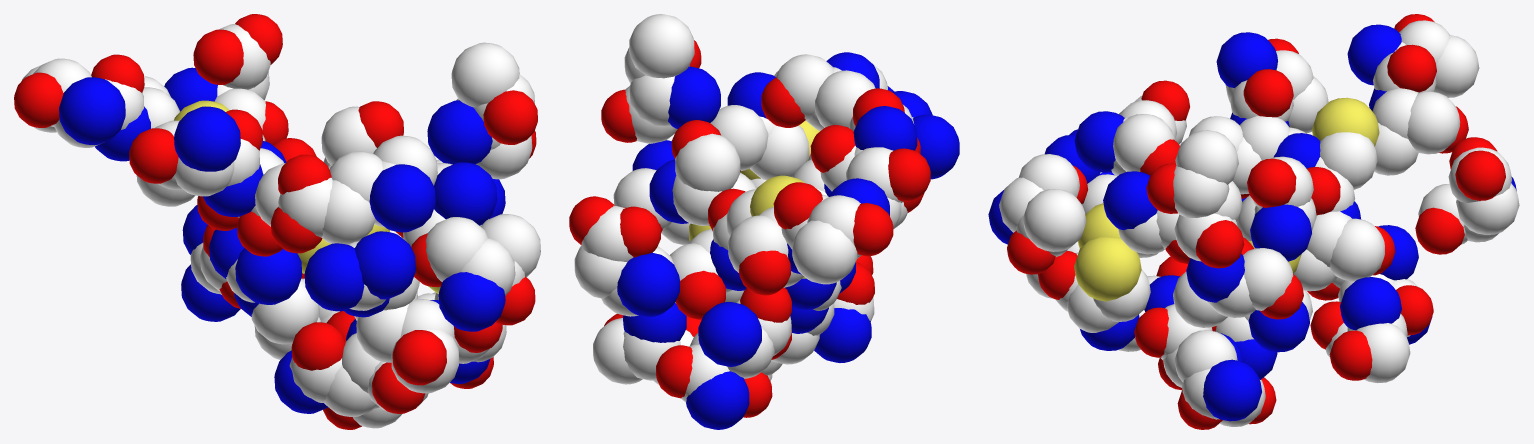
The model's file is bigmolecule.glb.
3 renders of one model, left to right at view 1: azimuth 30°, elevation 25°; view 2: azimuth 150°, elevation 25°; view 3: azimuth 270°, elevation 25°, orthographic. The views are drawn at different scales.
Visible parts, largest first — view 1: S.7.0.N46.OXT.327-C (×31), S.7.0.N46.OXT.327-N (×17), S.7.0.N46.OXT.327-O (×20); view 2: S.7.0.N46.OXT.327-C (×30), S.7.0.N46.OXT.327-N (×17), S.7.0.N46.OXT.327-O (×17), S.7.0.N46.OXT.327-S; view 3: S.7.0.N46.OXT.327-C (×44), S.7.0.N46.OXT.327-N (×16), S.7.0.N46.OXT.327-O (×19), S.7.0.N46.OXT.327-S (×3).
Boxes of the visible parts, <box> form: S.7.0.N46.OXT.327-C (×31): <box>33,24,540,428</box>; S.7.0.N46.OXT.327-N (×17): <box>59,67,505,413</box>; S.7.0.N46.OXT.327-O (×20): <box>14,14,537,413</box>; S.7.0.N46.OXT.327-C (×30): <box>574,14,903,402</box>; S.7.0.N46.OXT.327-N (×17): <box>617,52,959,429</box>; S.7.0.N46.OXT.327-O (×17): <box>569,77,930,417</box>; S.7.0.N46.OXT.327-S: <box>750,175,804,216</box>; S.7.0.N46.OXT.327-C (×44): <box>999,20,1519,419</box>; S.7.0.N46.OXT.327-N (×16): <box>988,24,1418,421</box>; S.7.0.N46.OXT.327-O (×19): <box>1007,44,1505,429</box>; S.7.0.N46.OXT.327-S (×3): <box>1074,97,1379,301</box>.
Size of the model in its own units: 1.79 by 1.56 by 2.22.
